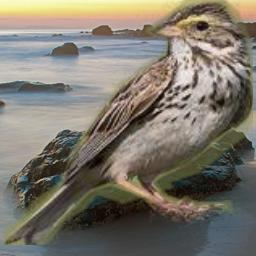Sparrow: (3, 0, 253, 245)
